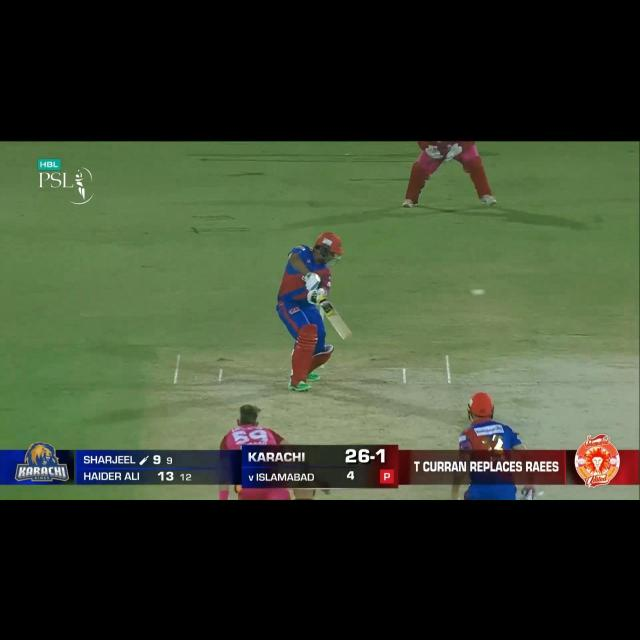bat: (315, 296, 355, 341)
toe: (336, 329, 357, 344)
